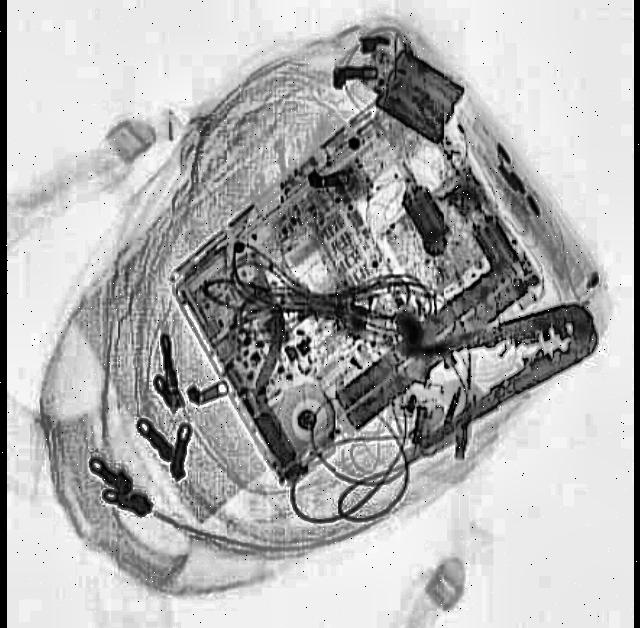Pliers: (388, 282, 608, 452)
